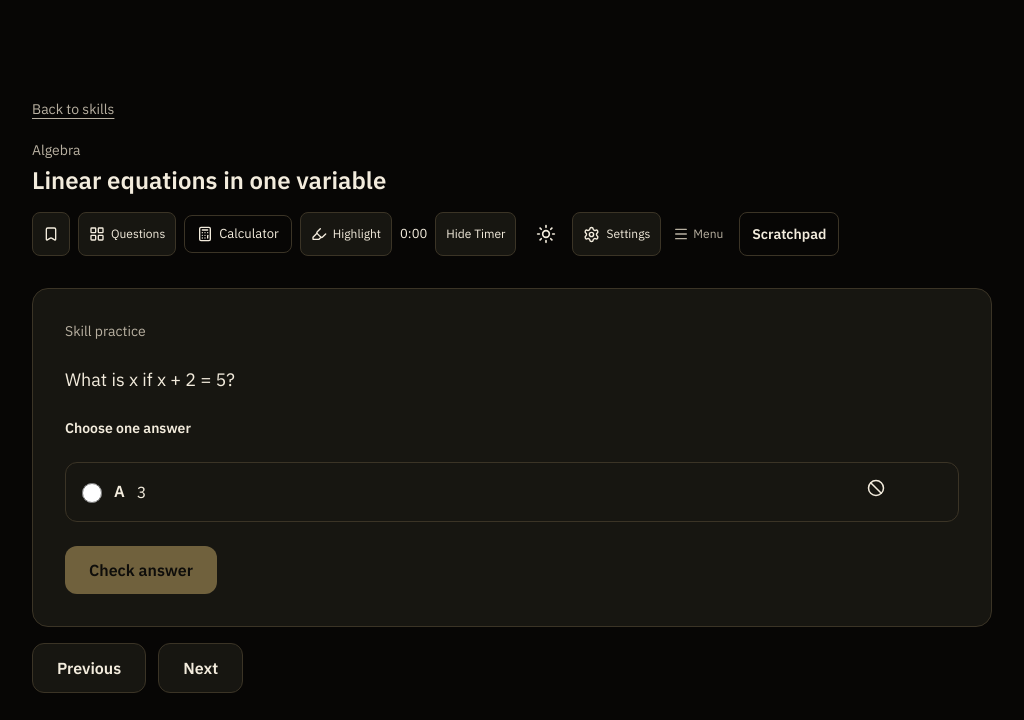
Test: canonical student practice › retains the selected answer on a failed save and accepts the server's original saved response on retry
Click the radio button named "Choice A" at (92, 493), box [82,483,102,503]
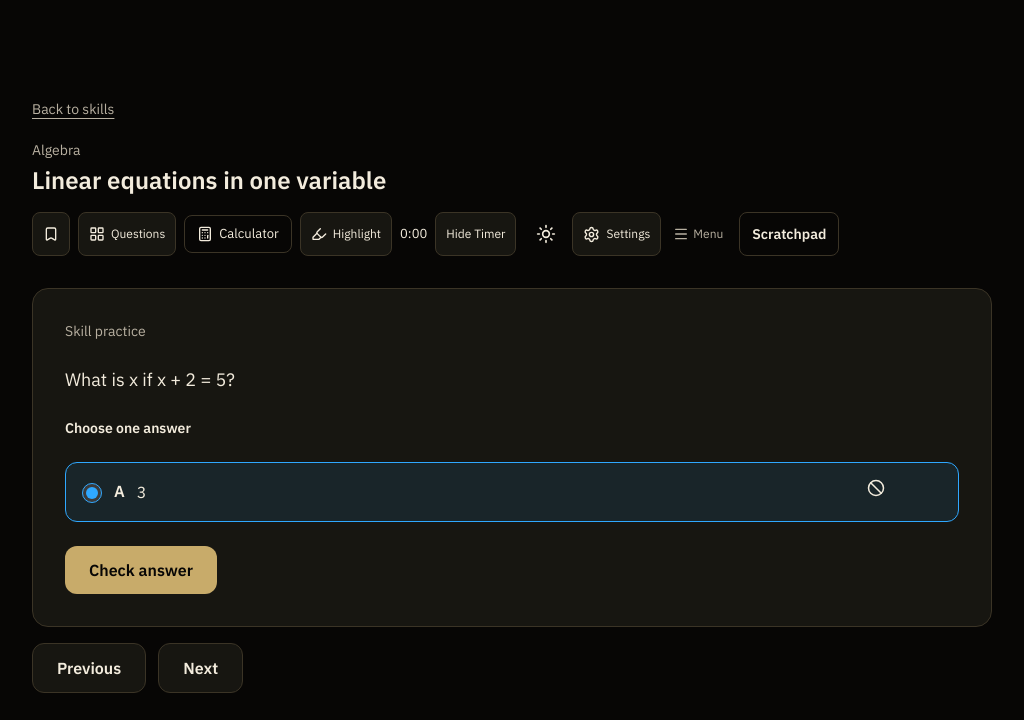
Click the button "Check answer" at (141, 570), box [65,546,217,594]
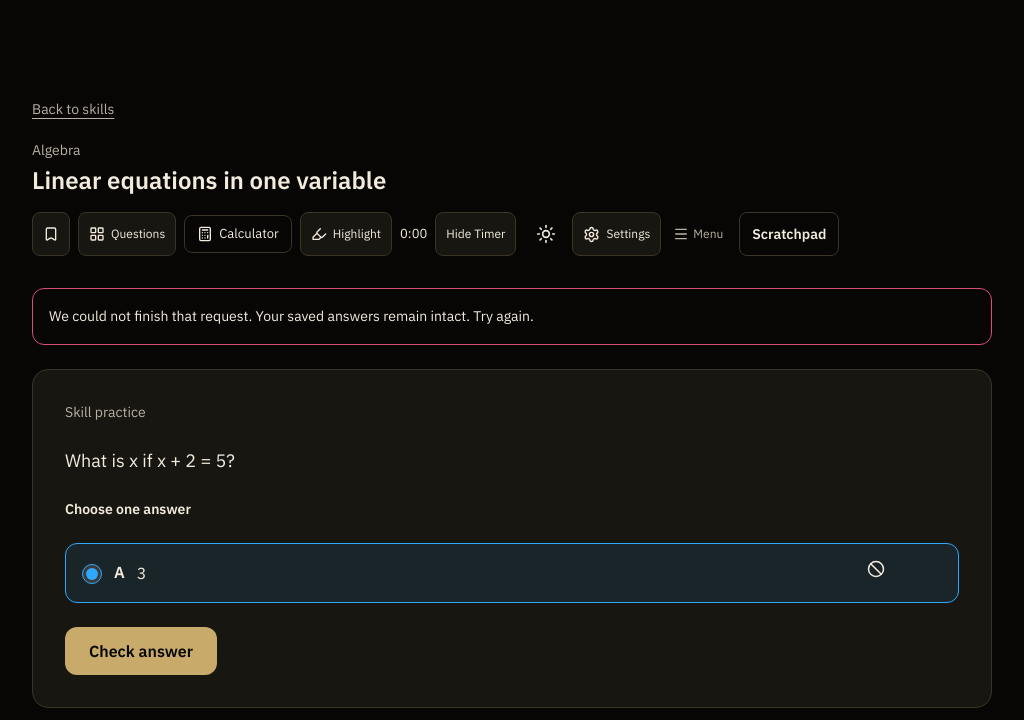
Now the radio button named "Choice A" is checked, box [82,564,102,584]
Now the message "We could not finish that request. Your saved answers remain intact. Try again." is shown, box [32,288,992,345]
Click the button "Check answer" at (141, 651), box [65,627,217,675]
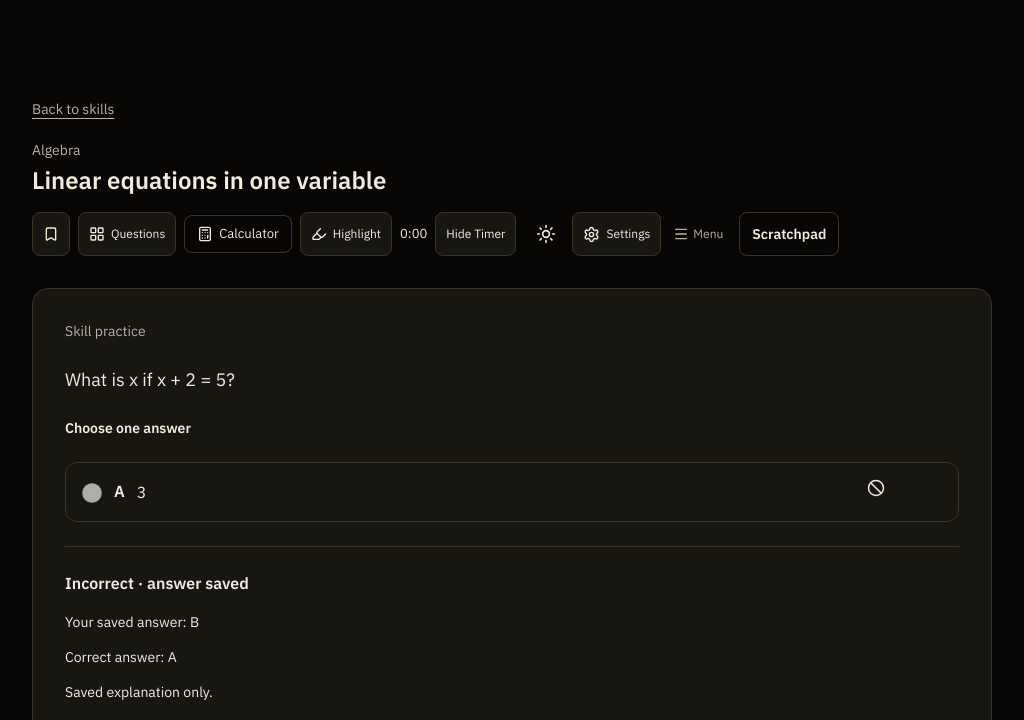
Now the heading "Incorrect · answer saved" is shown, box [65,573,249,593]
Now the text "Your saved answer: B" is shown, box [65,613,199,631]
